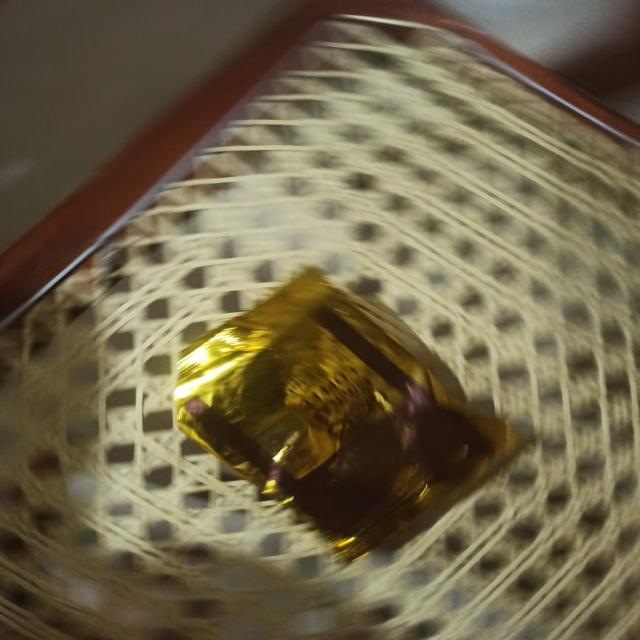Harischandra Coffee: (194, 308, 483, 532)
